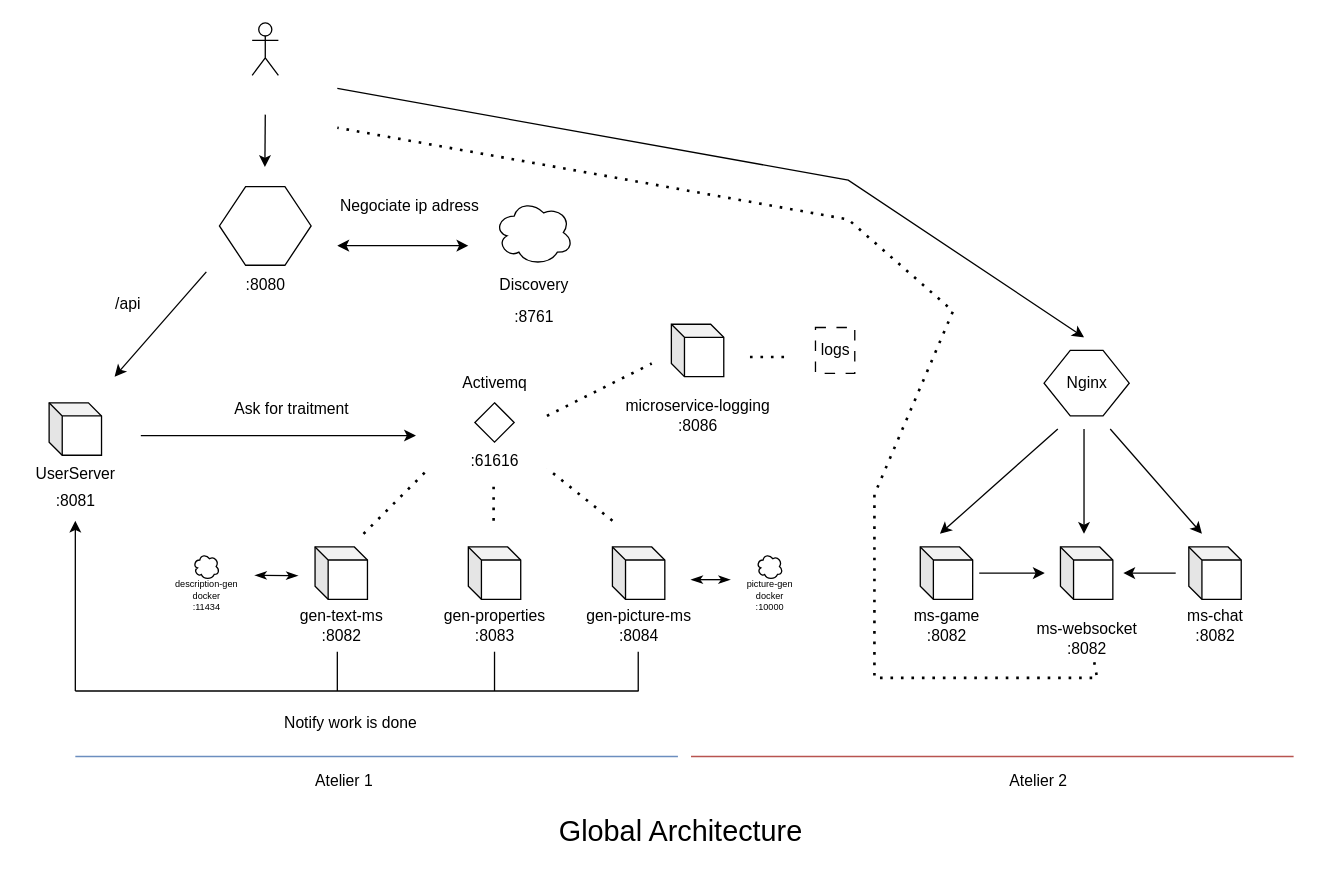
This 1318x889 diagram has some shape labels left out. The shapes that lost their labels are listed below. From the top down, each one's centre as x and y in pixels, then its label:
At point (264, 48): "User interface".
At point (264, 225): "Gateway".
